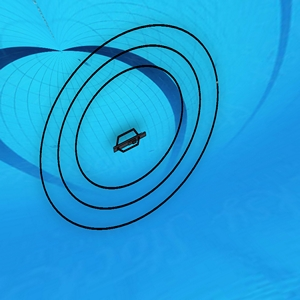circle: (38, 15, 226, 241)
submarine: (112, 128, 148, 157)
